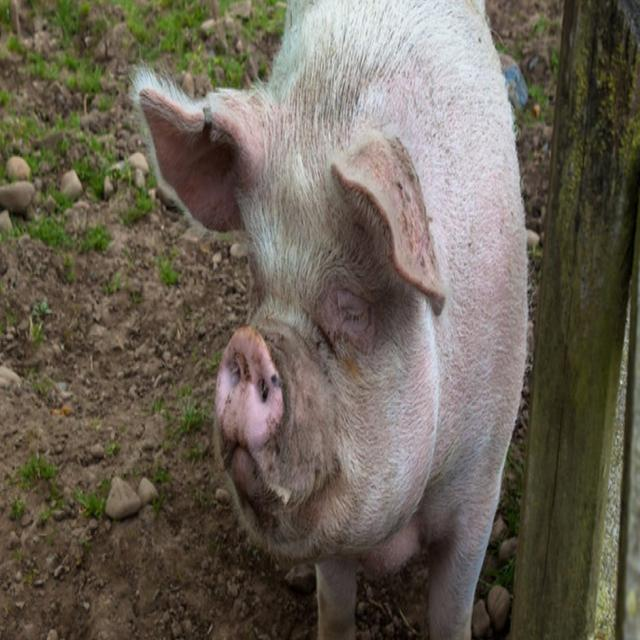pig: (137, 0, 532, 640)
